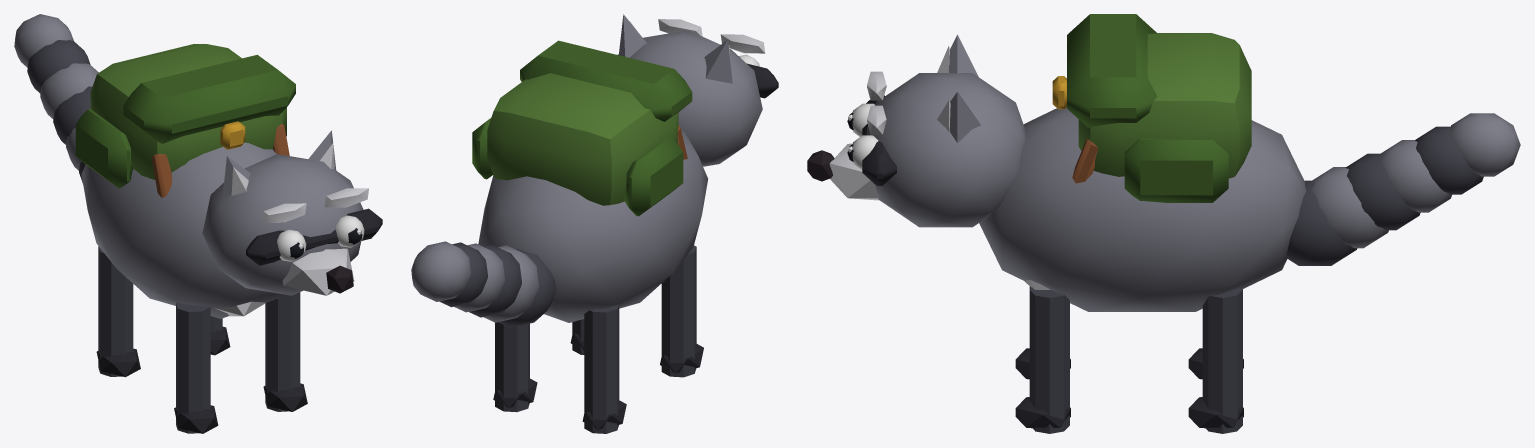
File: comp_waschbaer.glb
3 renders of one model, left to right at view 1: azimuth 30°, elevation 25°; view 2: azimuth 150°, elevation 25°; view 3: azimuth 270°, elevation 25°, orthographic. The views are drawn at different scales.
Visible parts, largest first — view 1: body, head, tail, leg_fl, leg_fr, leg_bl, leg_br; view 2: body, head, tail, leg_bl, leg_fl, leg_br, leg_fr; view 3: body, head, tail, leg_fr, leg_br.
Part boxes in pixels (bbox=[...]): body: bbox=[75, 44, 295, 318]; head: bbox=[202, 130, 382, 295]; tail: bbox=[14, 14, 98, 183]; leg_fl: bbox=[174, 302, 218, 433]; leg_fr: bbox=[263, 292, 307, 411]; leg_bl: bbox=[96, 246, 140, 377]; leg_br: bbox=[210, 316, 230, 355]; body: bbox=[472, 40, 707, 322]; head: bbox=[618, 14, 778, 166]; tail: bbox=[411, 241, 555, 327]; leg_bl: bbox=[582, 304, 626, 433]; leg_fl: bbox=[660, 245, 703, 377]; leg_br: bbox=[493, 322, 537, 412]; leg_fr: bbox=[570, 319, 584, 354]; body: bbox=[979, 14, 1306, 311]; head: bbox=[807, 34, 1025, 227]; tail: bbox=[1286, 113, 1520, 265]; leg_fr: bbox=[1015, 287, 1070, 433]; leg_br: bbox=[1188, 287, 1243, 433].
Size of the model in its own units: 0.4 by 0.6868 by 1.24.
